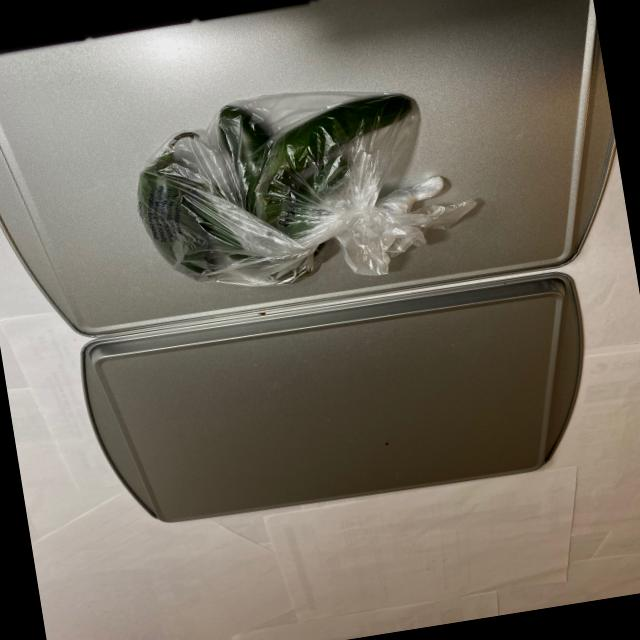chilli: (122, 85, 442, 308)
